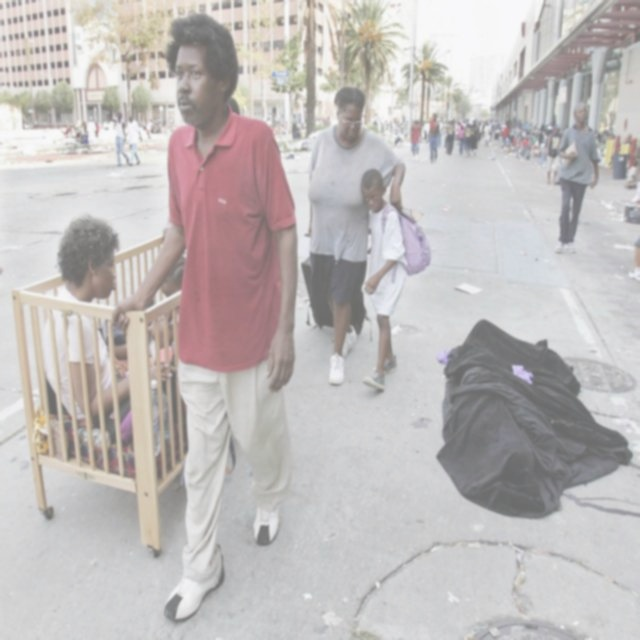pessoa: (110, 10, 300, 622), (39, 213, 180, 463), (303, 84, 407, 386), (358, 166, 432, 394), (447, 312, 545, 484), (106, 314, 177, 448), (552, 100, 602, 254), (442, 114, 544, 154), (594, 122, 640, 172), (623, 172, 639, 288), (159, 253, 187, 317), (360, 112, 411, 146), (112, 110, 130, 169), (123, 114, 143, 166), (546, 122, 562, 186), (266, 115, 304, 136), (426, 112, 439, 164), (62, 116, 88, 142), (143, 116, 173, 138), (409, 116, 422, 162), (84, 114, 98, 148), (544, 114, 558, 142), (226, 94, 242, 118), (20, 115, 38, 128), (314, 115, 331, 126), (422, 118, 429, 142), (102, 120, 118, 130), (94, 118, 100, 136)
